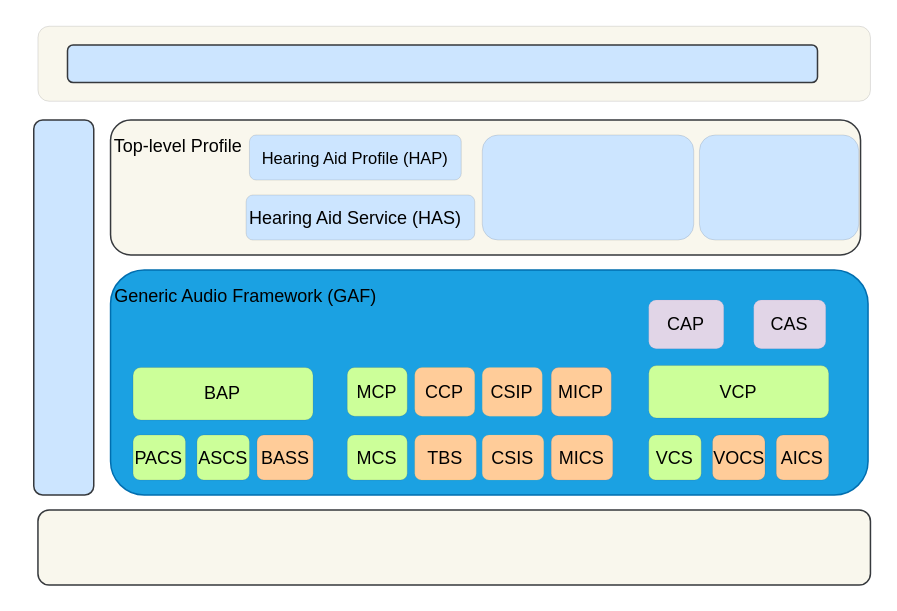
Image size: 897x611. Some labels were removed from this diagram. Here are the shapes that lost their labels. From the top down, the centre of each, then its label:
At point (442, 63): "LE Audio Application".
At point (587, 186): "Telephony Media Audio Profile (TMAP)".
At point (778, 186): "Public Broadcast TV Profile (PBP)".
At point (63, 306): "LC3".
At point (453, 546): "Transport Layer".
